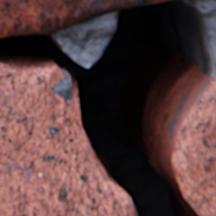brick: (0, 0, 164, 36)
broken_brick: (0, 62, 134, 215), (171, 79, 215, 215)
crack: (0, 0, 215, 215)
